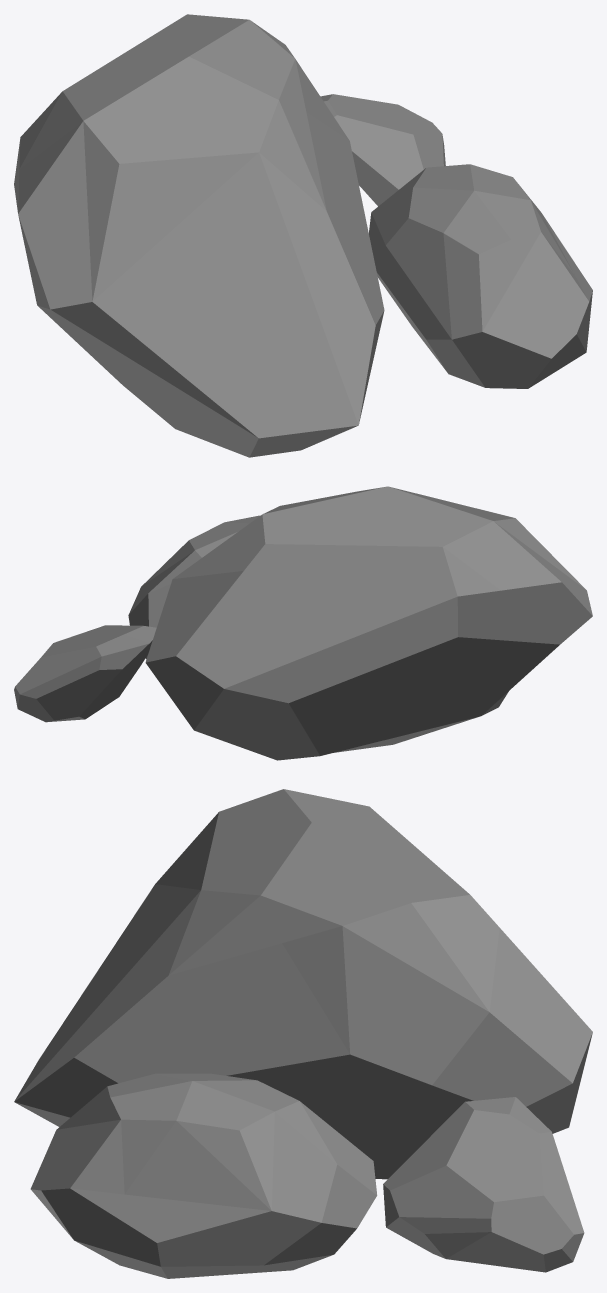
The model's file is rocks 1.fbx.
3 renders of one model, top to bottom at view 1: azimuth 30°, elevation 25°; view 2: azimuth 150°, elevation 25°; view 3: azimuth 270°, elevation 25°, orthographic. The views are drawn at different scales.
Parts seen in each view (by area): view 1: Icosphere.004; view 2: Icosphere.004; view 3: Icosphere.004.
Part boxes in pixels (x1=…): Icosphere.004: x1=14, y1=14, x2=592, y2=457; Icosphere.004: x1=14, y1=486, x2=592, y2=760; Icosphere.004: x1=14, y1=789, x2=592, y2=1278.
Size of the model in its own units: 0.8832 by 0.5237 by 0.8.
1 material, 1 textured.
